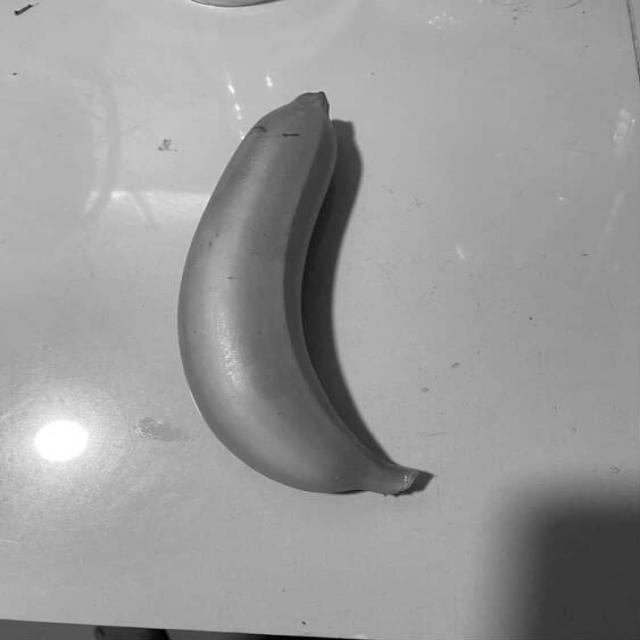Raw: (169, 83, 464, 514)
